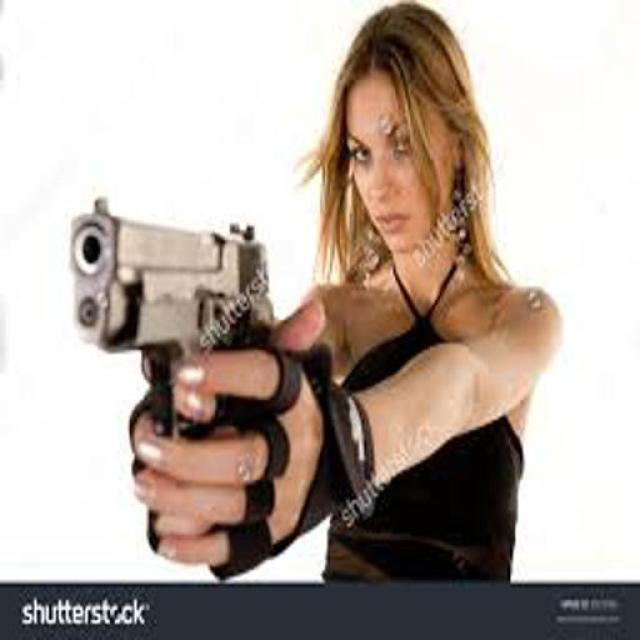pistol: (70, 190, 280, 530)
